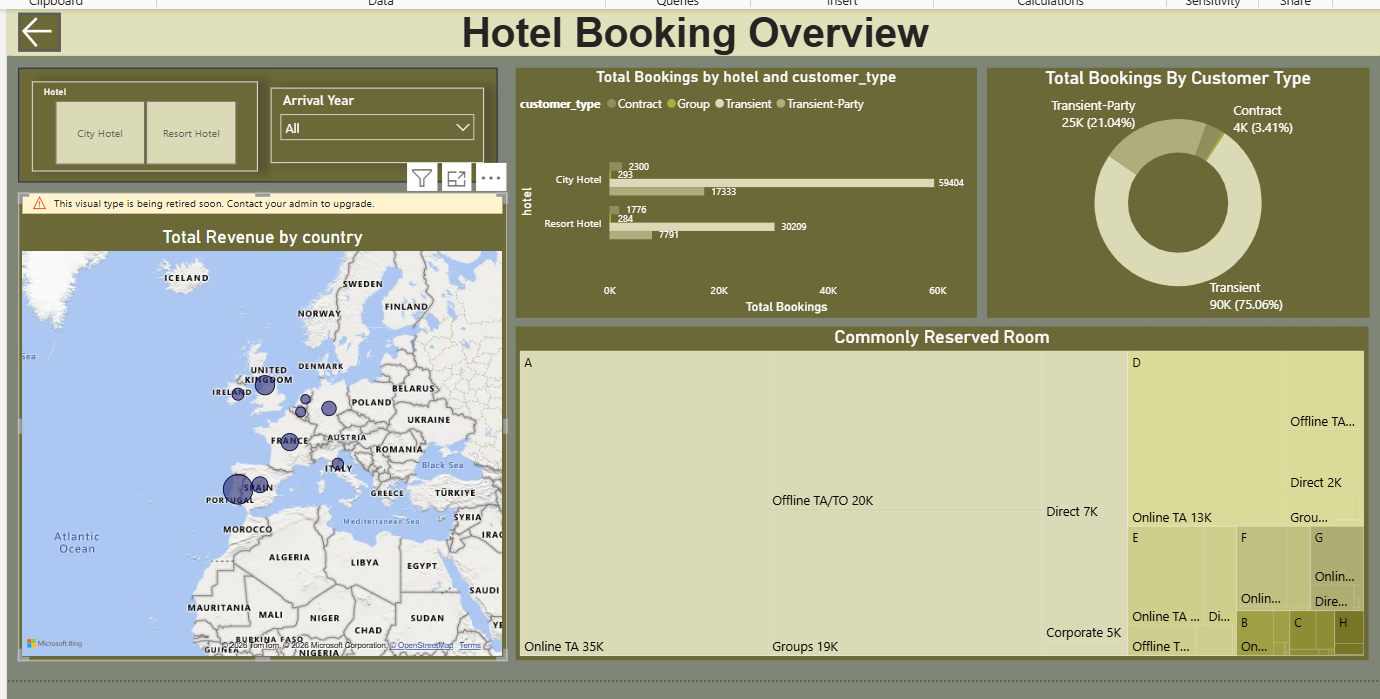

The page's visual inventory and layout, read from the dashboard file:
{"tool":"powerbi","page":{"name":"Page 2","canvas":[1580,770],"ordinal":1},"visuals":[{"type":"map","fields":{"Size":["All measures.Total Revenue"],"Category":["hotel_booking.country"]},"box":[12.9,211,561.2,536.8],"z":0},{"type":"treemap","title":"Commonly Reserved Room ","fields":{"Group":["hotel_booking.reserved_room_type"],"Details":["hotel_booking.market_segment"],"Values":["All measures.Total Bookings"]},"box":[584.2,364.6,978.9,383.2],"z":1000},{"type":"textbox","title":"Hotel Booking Overview","box":[0,0,1580,53.8],"z":2000},{"type":"donutChart","title":"Total Bookings By Customer Type","fields":{"Y":["All measures.Total Bookings"],"Category":["hotel_booking.customer_type"]},"box":[1125.3,67.5,439.2,287.1],"z":3000},{"type":"shape","box":[12.9,67.5,550.3,131.6],"z":4000},{"type":"clusteredBarChart","fields":{"Category":["hotel_booking.hotel"],"Y":["All measures.Total Bookings"],"Series":["hotel_booking.customer_type"]},"box":[584.2,67.5,529.6,287.1],"z":5000},{"type":"slicer","fields":{"Values":["hotel_booking.hotel"]},"box":[28.8,83.7,258.9,103.3],"z":6000},{"type":"slicer","fields":{"Values":["hotel_booking.arrival_date_year"]},"box":[303.4,90.2,244.5,86.3],"z":7000},{"type":"actionButton","box":[12.9,4.3,48.8,44.5],"z":8000}]}

Visuals, with their boxes in screenshot pixels (x1, y1, x2, y2):
map - All measures.Total Revenue x hotel_booking.country: (8,189,491,651)
"Commonly Reserved Room " treemap: (500,321,1343,651)
"Hotel Booking Overview" textbox: (0,7,1357,54)
"Total Bookings By Customer Type" donutChart: (966,65,1344,313)
shape: (8,65,482,179)
clusteredBarChart - hotel_booking.hotel x All measures.Total Bookings: (500,65,956,313)
slicer - hotel_booking.hotel: (21,79,244,168)
slicer - hotel_booking.arrival_date_year: (258,85,468,159)
actionButton: (8,11,50,49)
